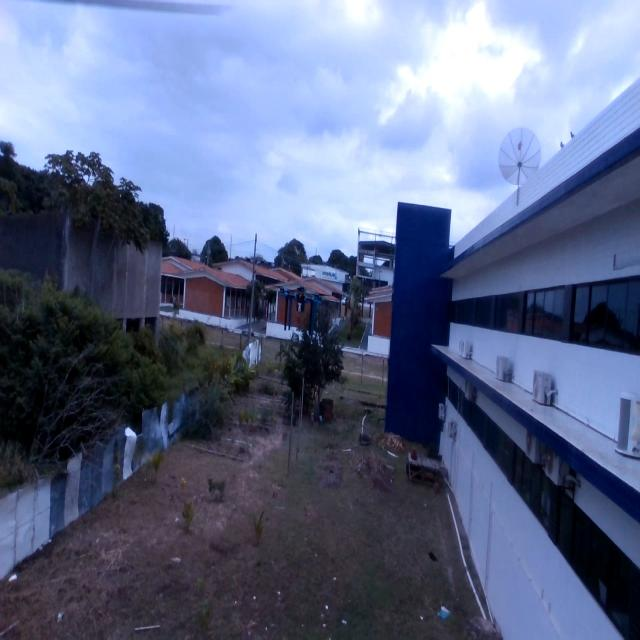-uav-: (265, 252, 337, 358)
